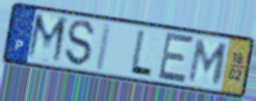E: (156, 31, 196, 85)
I: (93, 20, 115, 74)
L: (127, 27, 154, 79)
M: (24, 11, 70, 67), (186, 37, 231, 87)
S: (64, 19, 96, 69)
